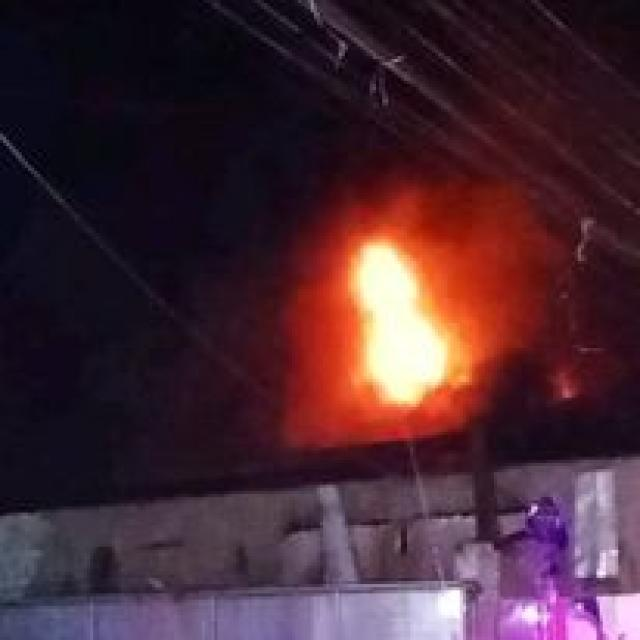Fire: (350, 243, 454, 401)
Smoke: (390, 179, 566, 336), (268, 226, 380, 422)
